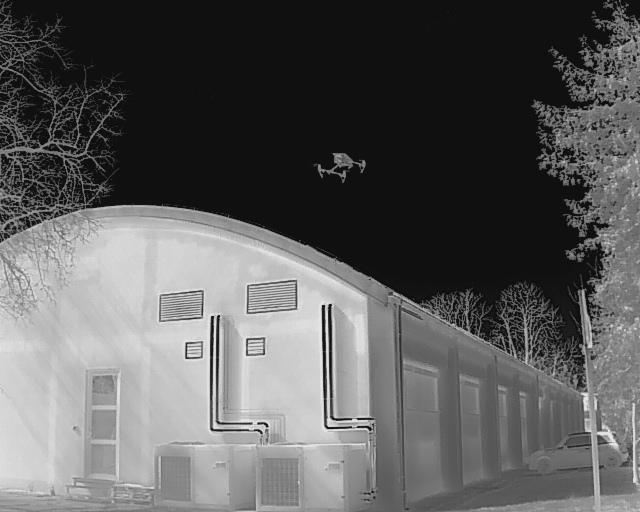drone: (305, 144, 371, 189)
